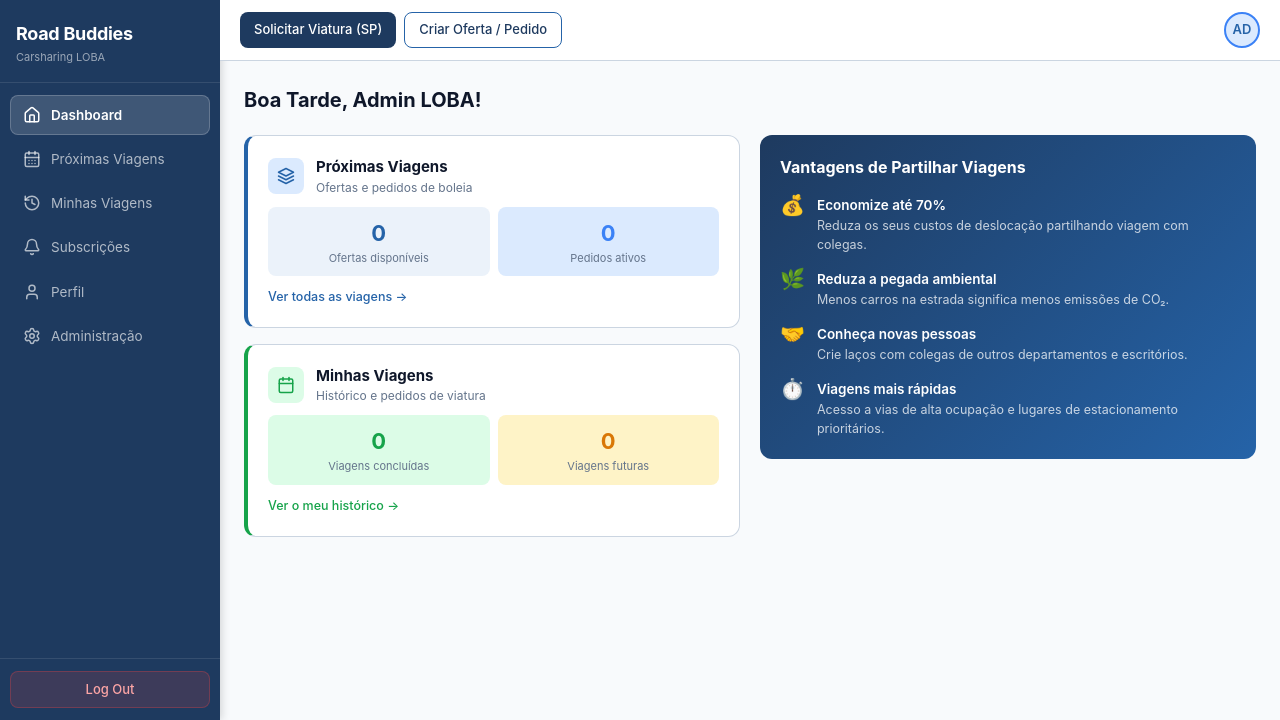
Test: Administração › deve navegar para o painel de administração e listar utilizadores
This screenshot has width=1280, height=720.
Expected: the text "Road Buddies" is shown, [16,20,133,47]
Click the button "Administração" at (83, 336), box [23,327,143,345]
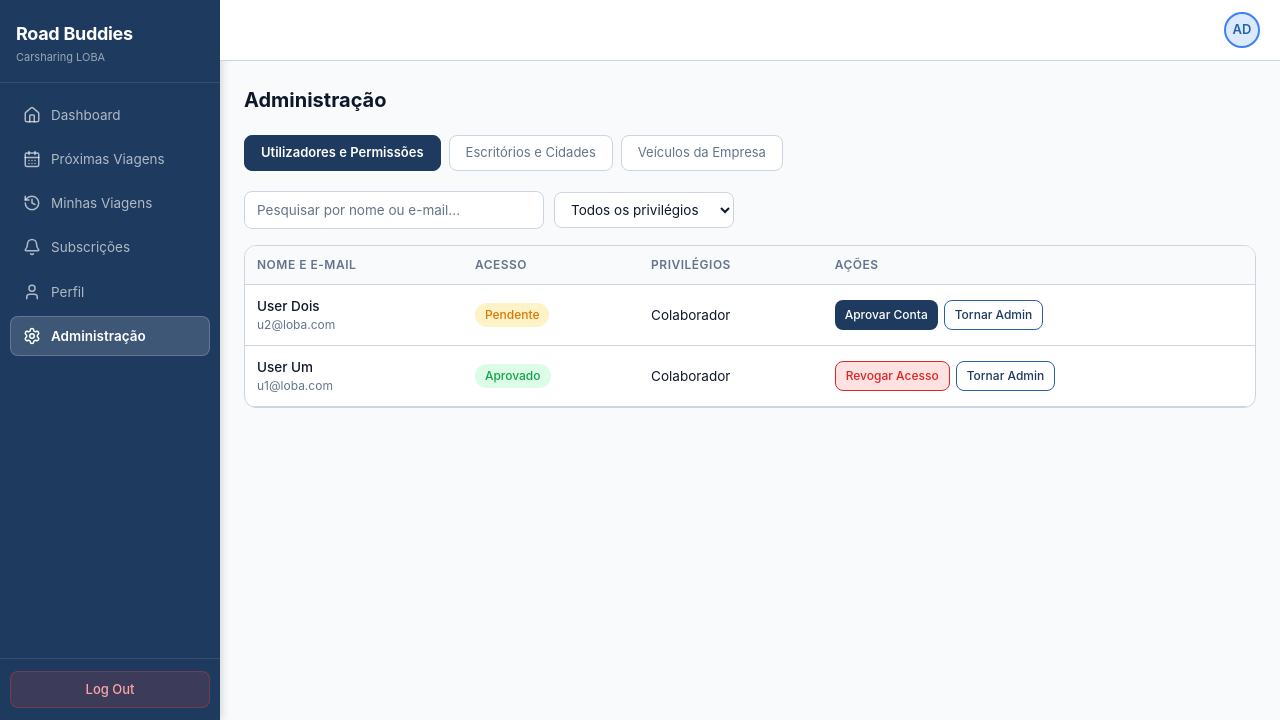
Expected: the text "User Um" is shown, [257,359,313,375]
Expected: the text "User Dois" is shown, [257,298,320,314]
Expected: the text "Pendente" is shown, [475,303,550,327]
